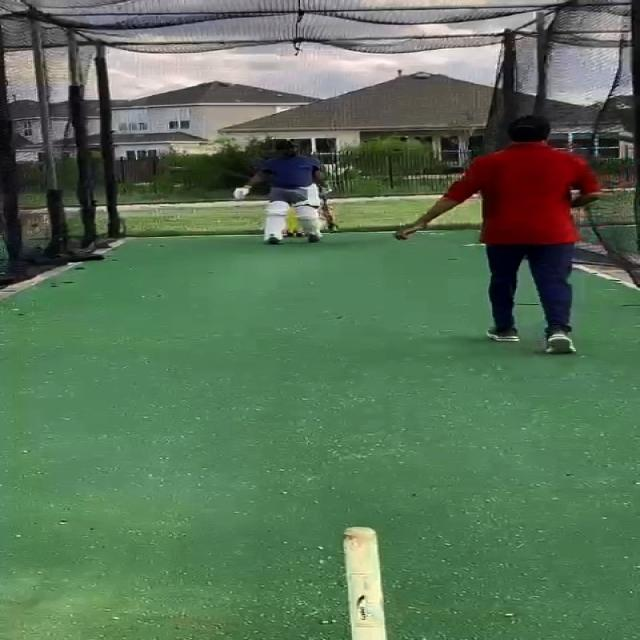batsman: (231, 139, 341, 246)
